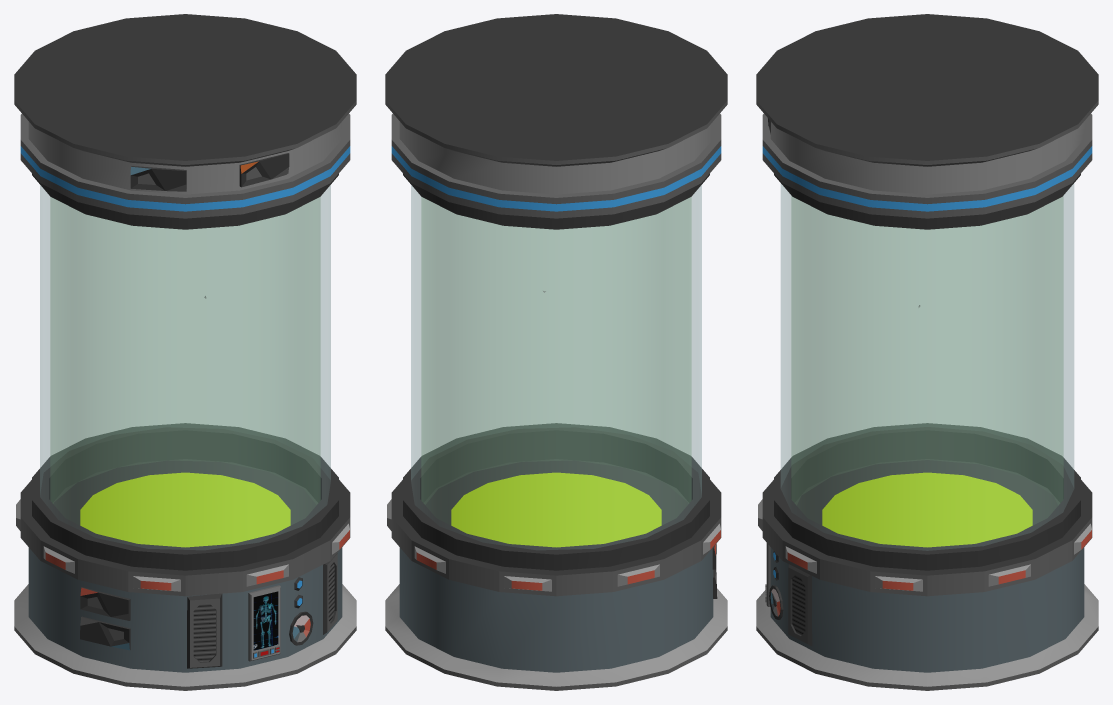
File: Human_Tank_Empty.fbx
The picture shows the model from 3 angles, left to right: view 1: azimuth 30°, elevation 25°; view 2: azimuth 150°, elevation 25°; view 3: azimuth 270°, elevation 25°; orthographic projection.
Visible parts, largest first — view 1: Human_Tank_Empty; view 2: Human_Tank_Empty; view 3: Human_Tank_Empty.
Boxes of the visible parts, bbox=[...] form: Human_Tank_Empty: bbox=[14, 14, 356, 690]; Human_Tank_Empty: bbox=[385, 14, 727, 690]; Human_Tank_Empty: bbox=[756, 14, 1098, 690].
Bounding box in the file's own units: 221 × 372 × 218.
